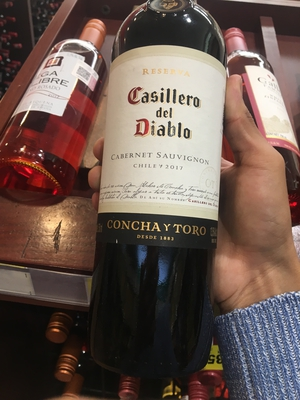casillero del diablo cabernet sauvignon: (99, 10, 228, 382)
